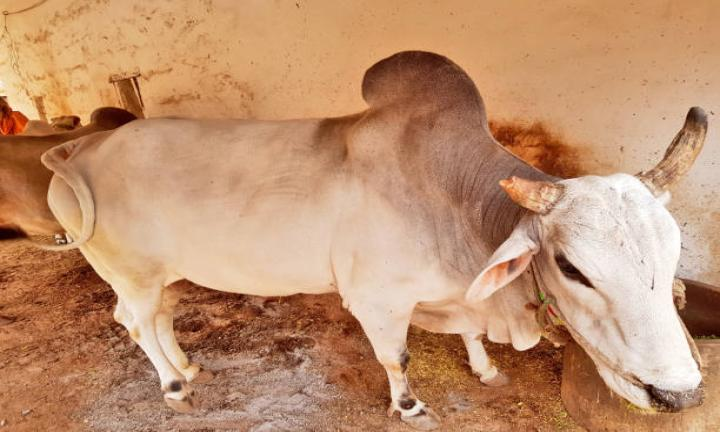Brahman: (42, 51, 707, 429)
